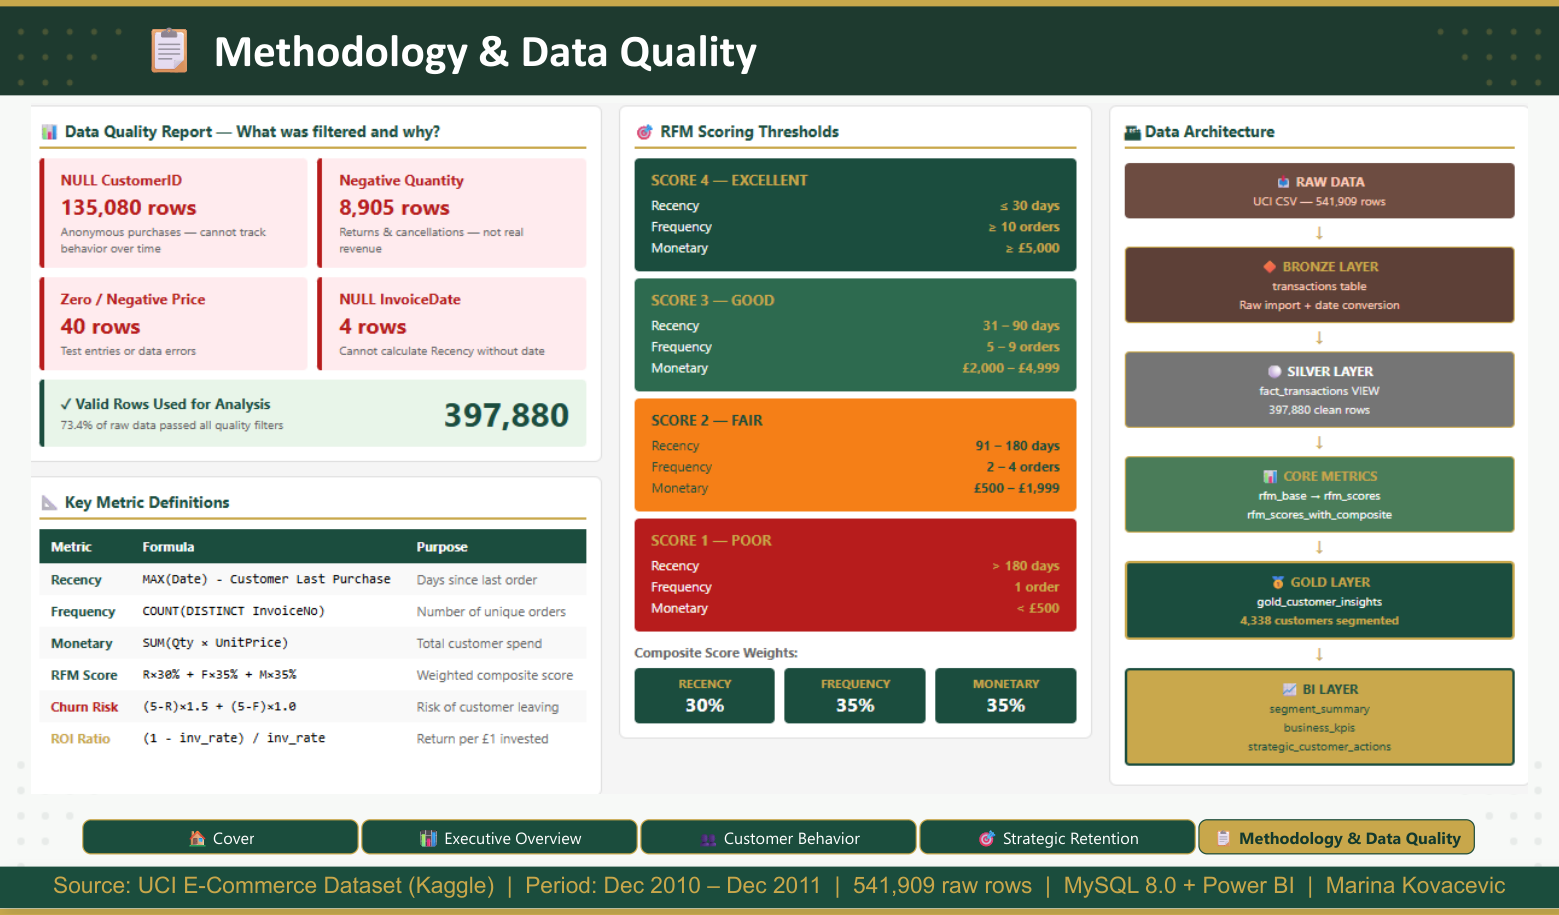

Layout of this report page (visuals, bound fields, positions):
{"tool":"powerbi","page":{"name":"📋 Methodology & Data Quality","canvas":[1280,750],"ordinal":4},"visuals":[{"type":"textbox","box":[108.9,8.8,612.8,72],"z":0},{"type":"image","box":[20.8,80.2,1238.5,576],"z":1000},{"type":"textbox","box":[0,711.5,1280.2,33.3],"z":2000},{"type":"pageNavigator","box":[67.6,671.9,1144.8,29.2],"z":3000}]}

Visuals, with their boxes in screenshot pixels (x1, y1, x2, y2), scaled from the page's 1280x750 canvas onto the 1559x915 screenshot:
textbox: BBox(133, 11, 879, 99)
image: BBox(25, 98, 1534, 801)
textbox: BBox(0, 868, 1558, 909)
pageNavigator: BBox(82, 820, 1477, 855)
